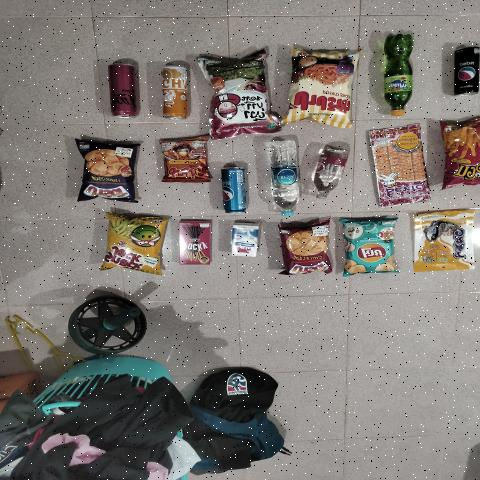bento_red: (373, 130, 425, 205)
coke_red: (108, 60, 138, 115)
crystal: (273, 140, 297, 221)
fanta_green: (383, 32, 418, 117)
lay_blue: (346, 222, 395, 277)
mama: (162, 140, 204, 186)
paprika: (283, 55, 355, 123)
party_purple: (88, 148, 134, 198)
party_red: (288, 230, 330, 274)
pepsi_black: (451, 42, 480, 97)
pepsi_blue: (219, 166, 248, 214)
pokki: (183, 224, 212, 264)
singha_soda: (314, 147, 345, 200)
singha_yellow: (164, 65, 192, 121)
snack_jack: (106, 220, 158, 266)
taokaenoi: (213, 64, 269, 137)
taro_yellow: (418, 209, 470, 271)
thai_denmark: (231, 226, 258, 256)
